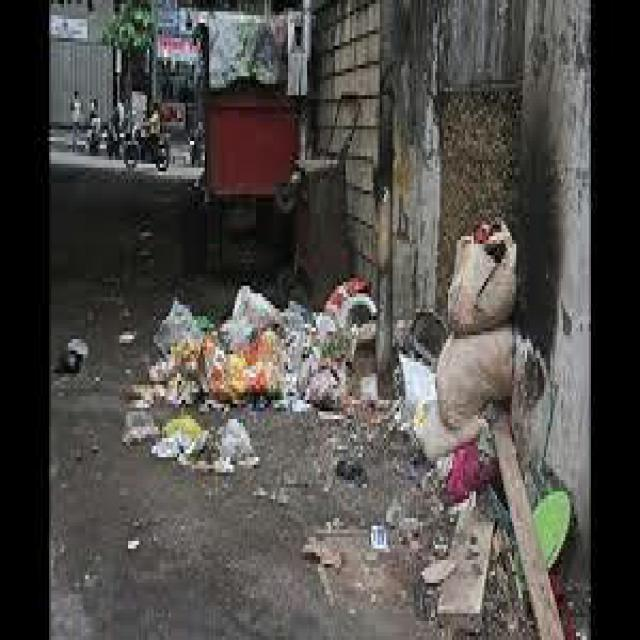garbage: (154, 301, 390, 427), (433, 248, 512, 499)
